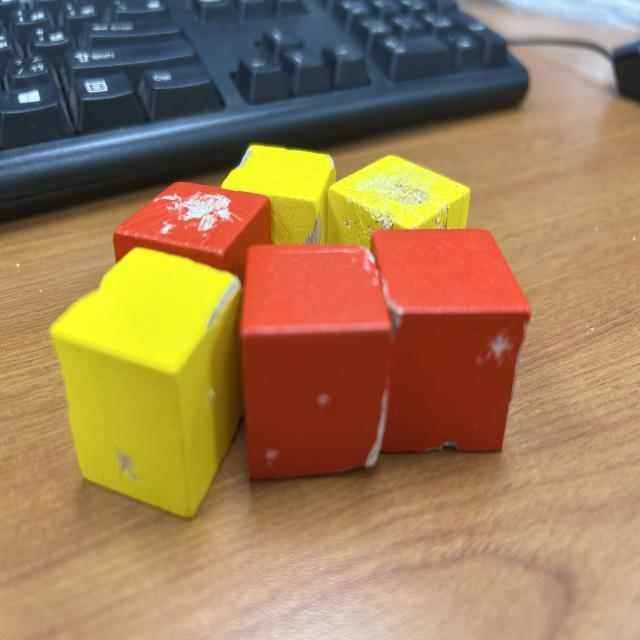broken: (49, 246, 246, 519), (368, 229, 534, 452), (240, 244, 392, 482), (114, 181, 274, 370), (220, 144, 336, 291), (329, 152, 470, 249)
